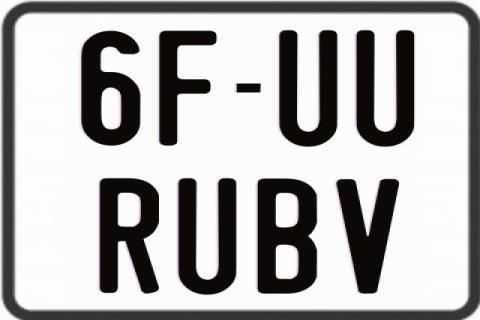0: (81, 28, 141, 146)
B: (255, 176, 319, 296)
F: (157, 28, 215, 144)
R: (98, 178, 158, 298)
U: (279, 28, 342, 149), (176, 176, 238, 294), (356, 30, 418, 146)
V: (333, 178, 398, 296)
